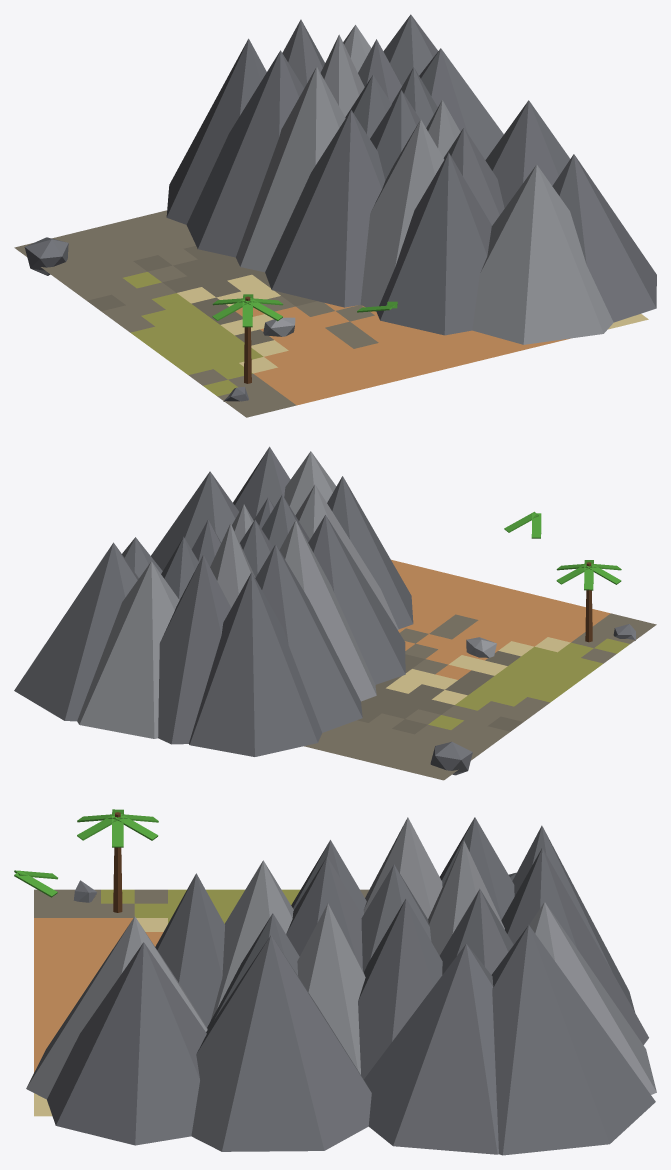
The model's file is chunk_10_20.glb.
The picture shows the model from 3 angles, top to bottom: view 1: azimuth 30°, elevation 25°; view 2: azimuth 150°, elevation 25°; view 3: azimuth 270°, elevation 25°; orthographic projection. The views are drawn at different scales.
Parts seen in each view (by area): view 1: chunk_10_20; view 2: chunk_10_20; view 3: chunk_10_20.
Part boxes in pixels (bbox=[...]): chunk_10_20: bbox=[14, 14, 656, 417]; chunk_10_20: bbox=[14, 446, 656, 780]; chunk_10_20: bbox=[14, 809, 656, 1155].
Bounding box in the file's own units: 18.96 × 7.33 × 19.17.
